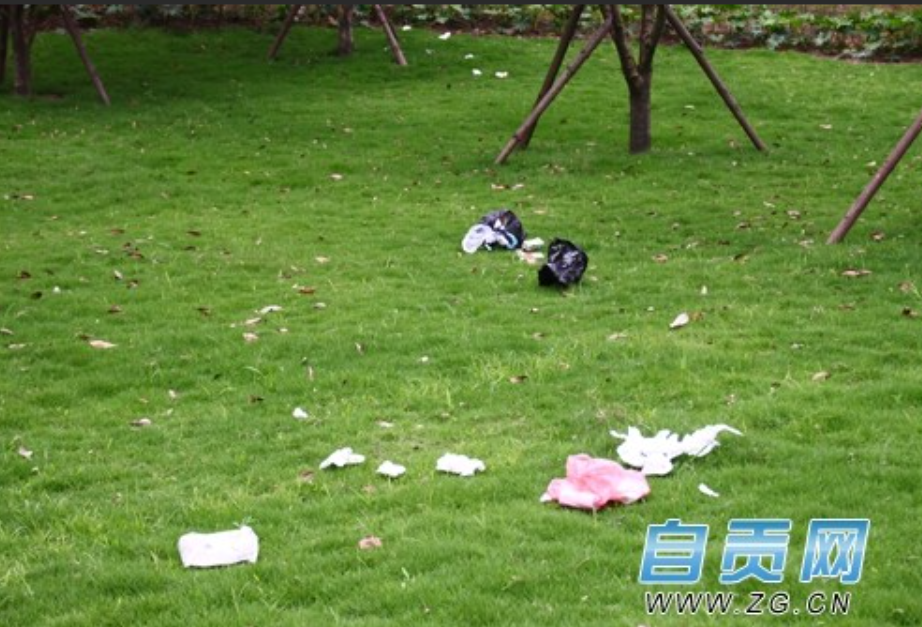garbage: (608, 416, 748, 488), (544, 440, 656, 517), (465, 207, 550, 267), (166, 527, 265, 575), (529, 239, 588, 299), (428, 452, 485, 481), (306, 445, 365, 468), (371, 456, 406, 483)
